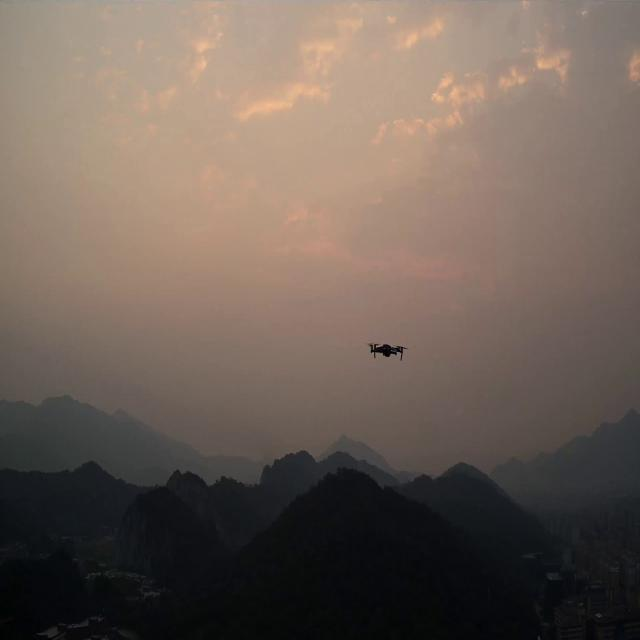UAV: (362, 333, 409, 364)
